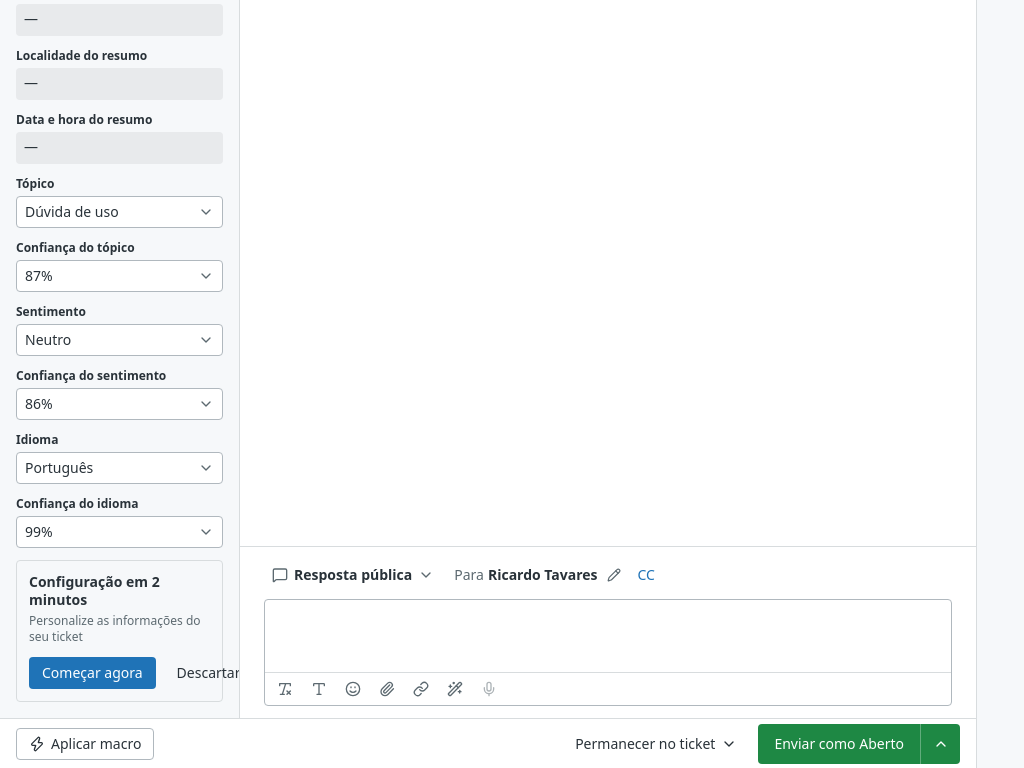
Scenario: BottomBar: atalhos › Shift+Enter na lista de macros abre a pré-visualização sem aplicar
(page scrolled)
Expected: the button "Enviar como Aberto" is shown, [758,724,920,764]
Click the button "Aplicar macro". click: point(85, 744)
box: [16,728,154,760]
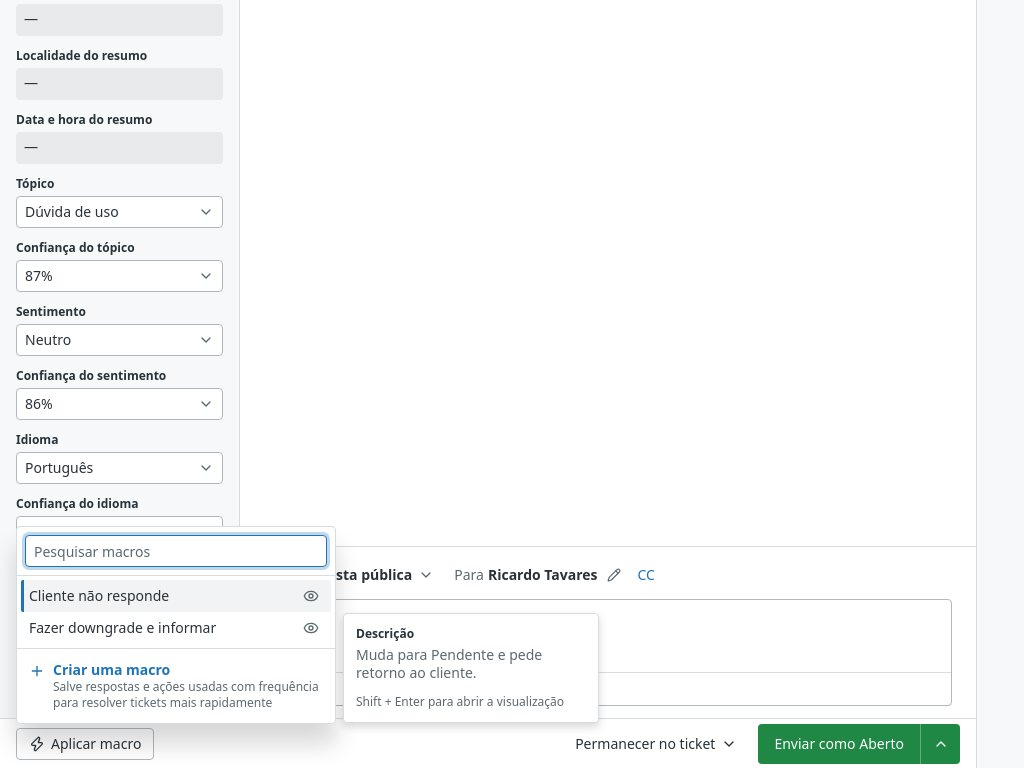
Expected: the text "Cliente não responde" is shown, [29,586,169,605]
Type "Cliente não" into the dropdown with placeholder "Pesquisar macros". click: point(176, 551)
box: [25,535,327,567]
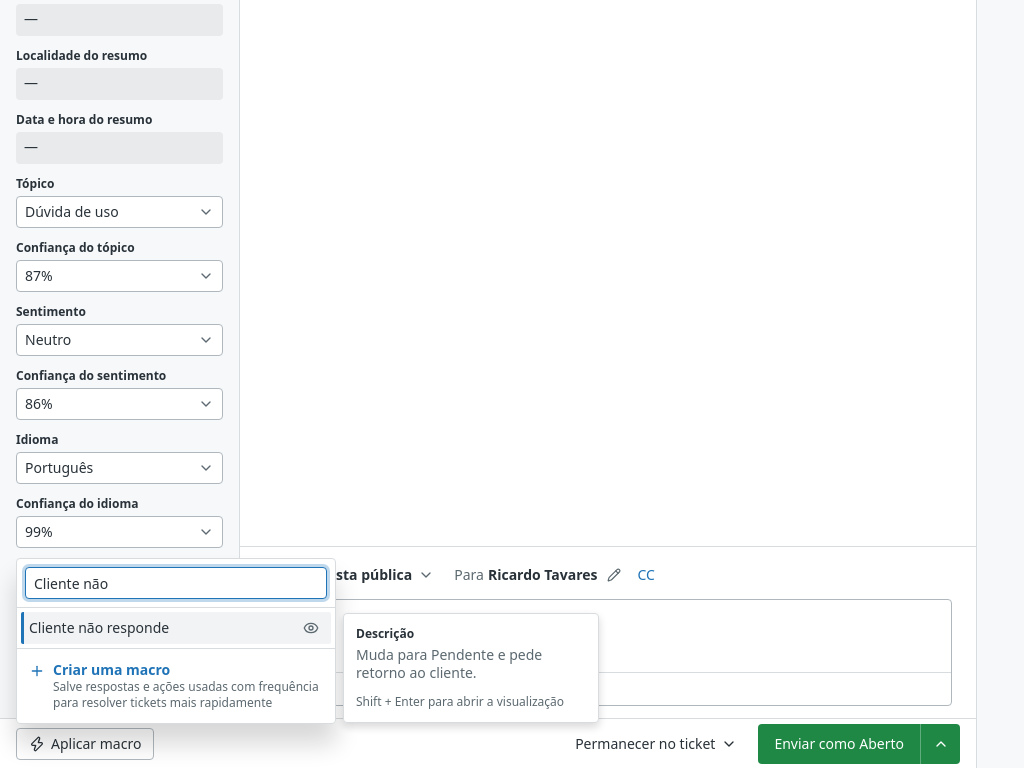
Expected: the text "Shift + Enter para abrir a visualização" is shown, [356,694,586,710]
Type keys "{Shift>}{Enter}{/Shift}"
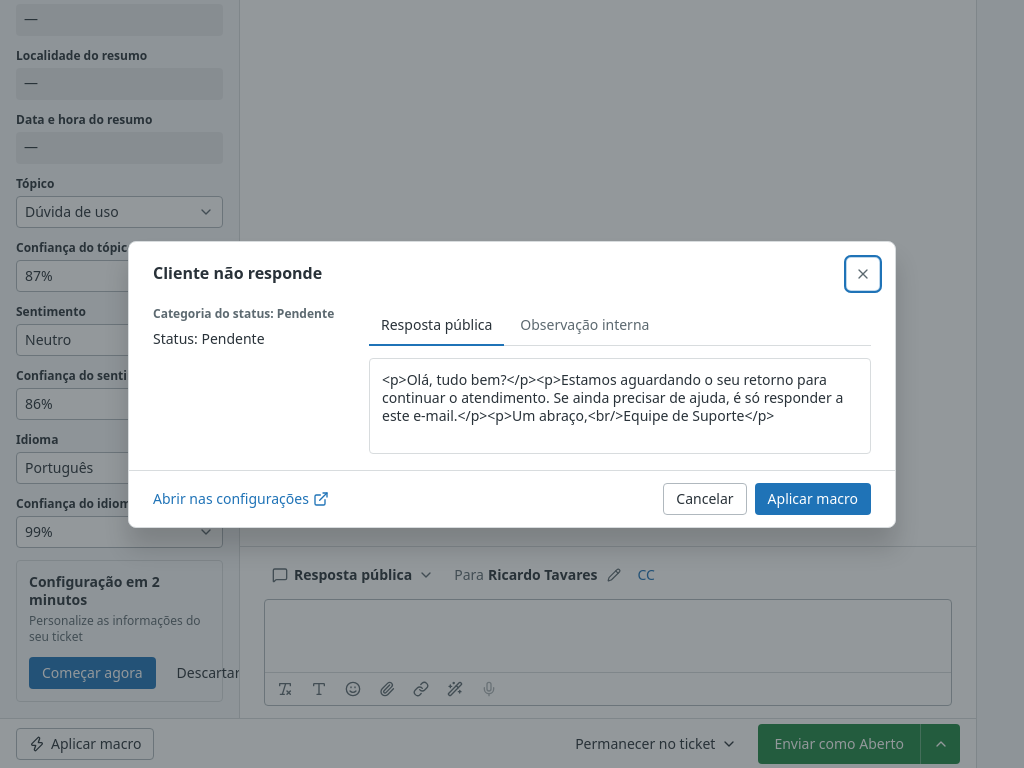
Expected: the dialog "Cliente não responde" is shown, [128,240,896,528]
